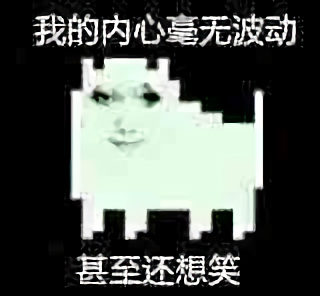dragon: (92, 85, 162, 155)
